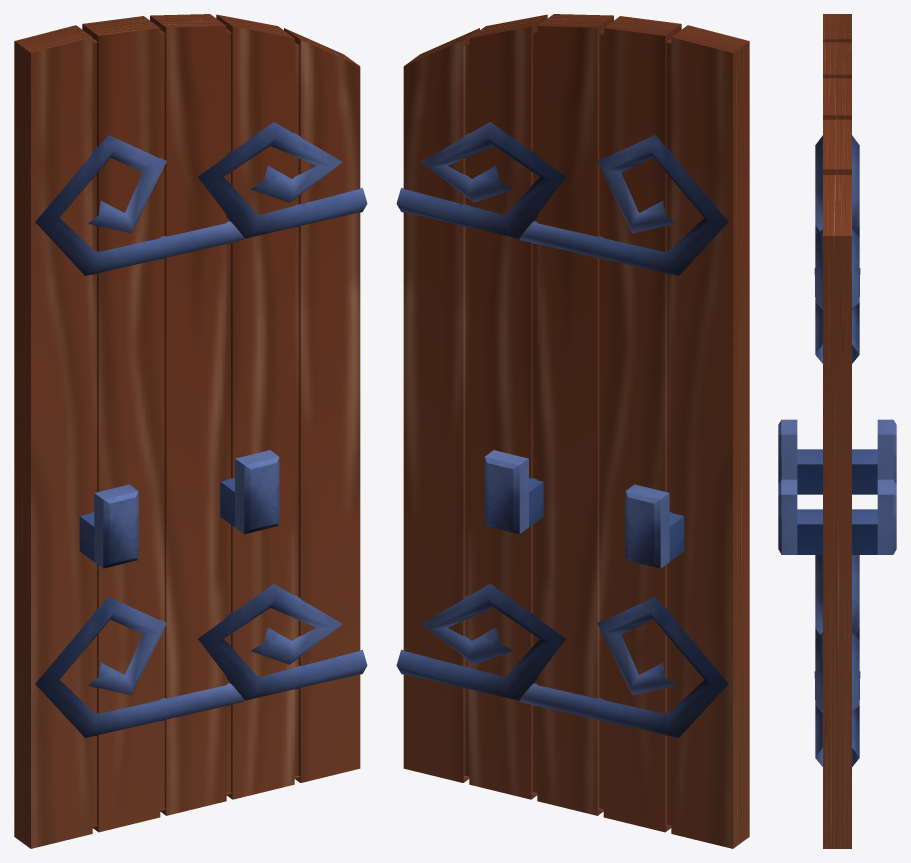
File: DoubleDoorLeft.fbx
The picture shows the model from 3 angles, left to right: view 1: azimuth 30°, elevation 25°; view 2: azimuth 150°, elevation 25°; view 3: azimuth 270°, elevation 25°; orthographic projection. The views are drawn at different scales.
Visible parts, largest first — view 1: DoubleDoorLeft; view 2: DoubleDoorLeft; view 3: DoubleDoorLeft.
Part boxes in pixels (<box>): DoubleDoorLeft: <box>14,14,367,848</box>; DoubleDoorLeft: <box>396,14,749,848</box>; DoubleDoorLeft: <box>778,14,896,848</box>.
Bounding box in the file's own units: 146 × 336 × 51.81.
